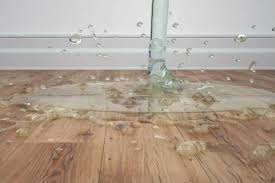Wet-floor: (19, 66, 275, 130)
